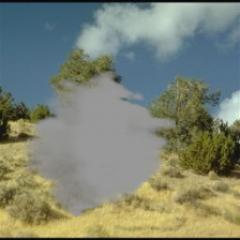smoke: (22, 70, 176, 218)
